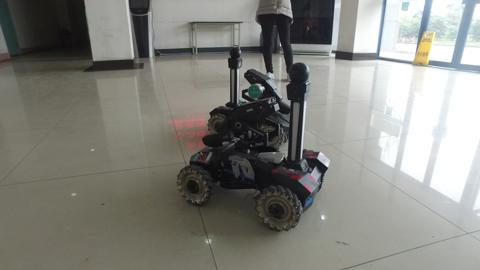chariot: (170, 60, 329, 234)
